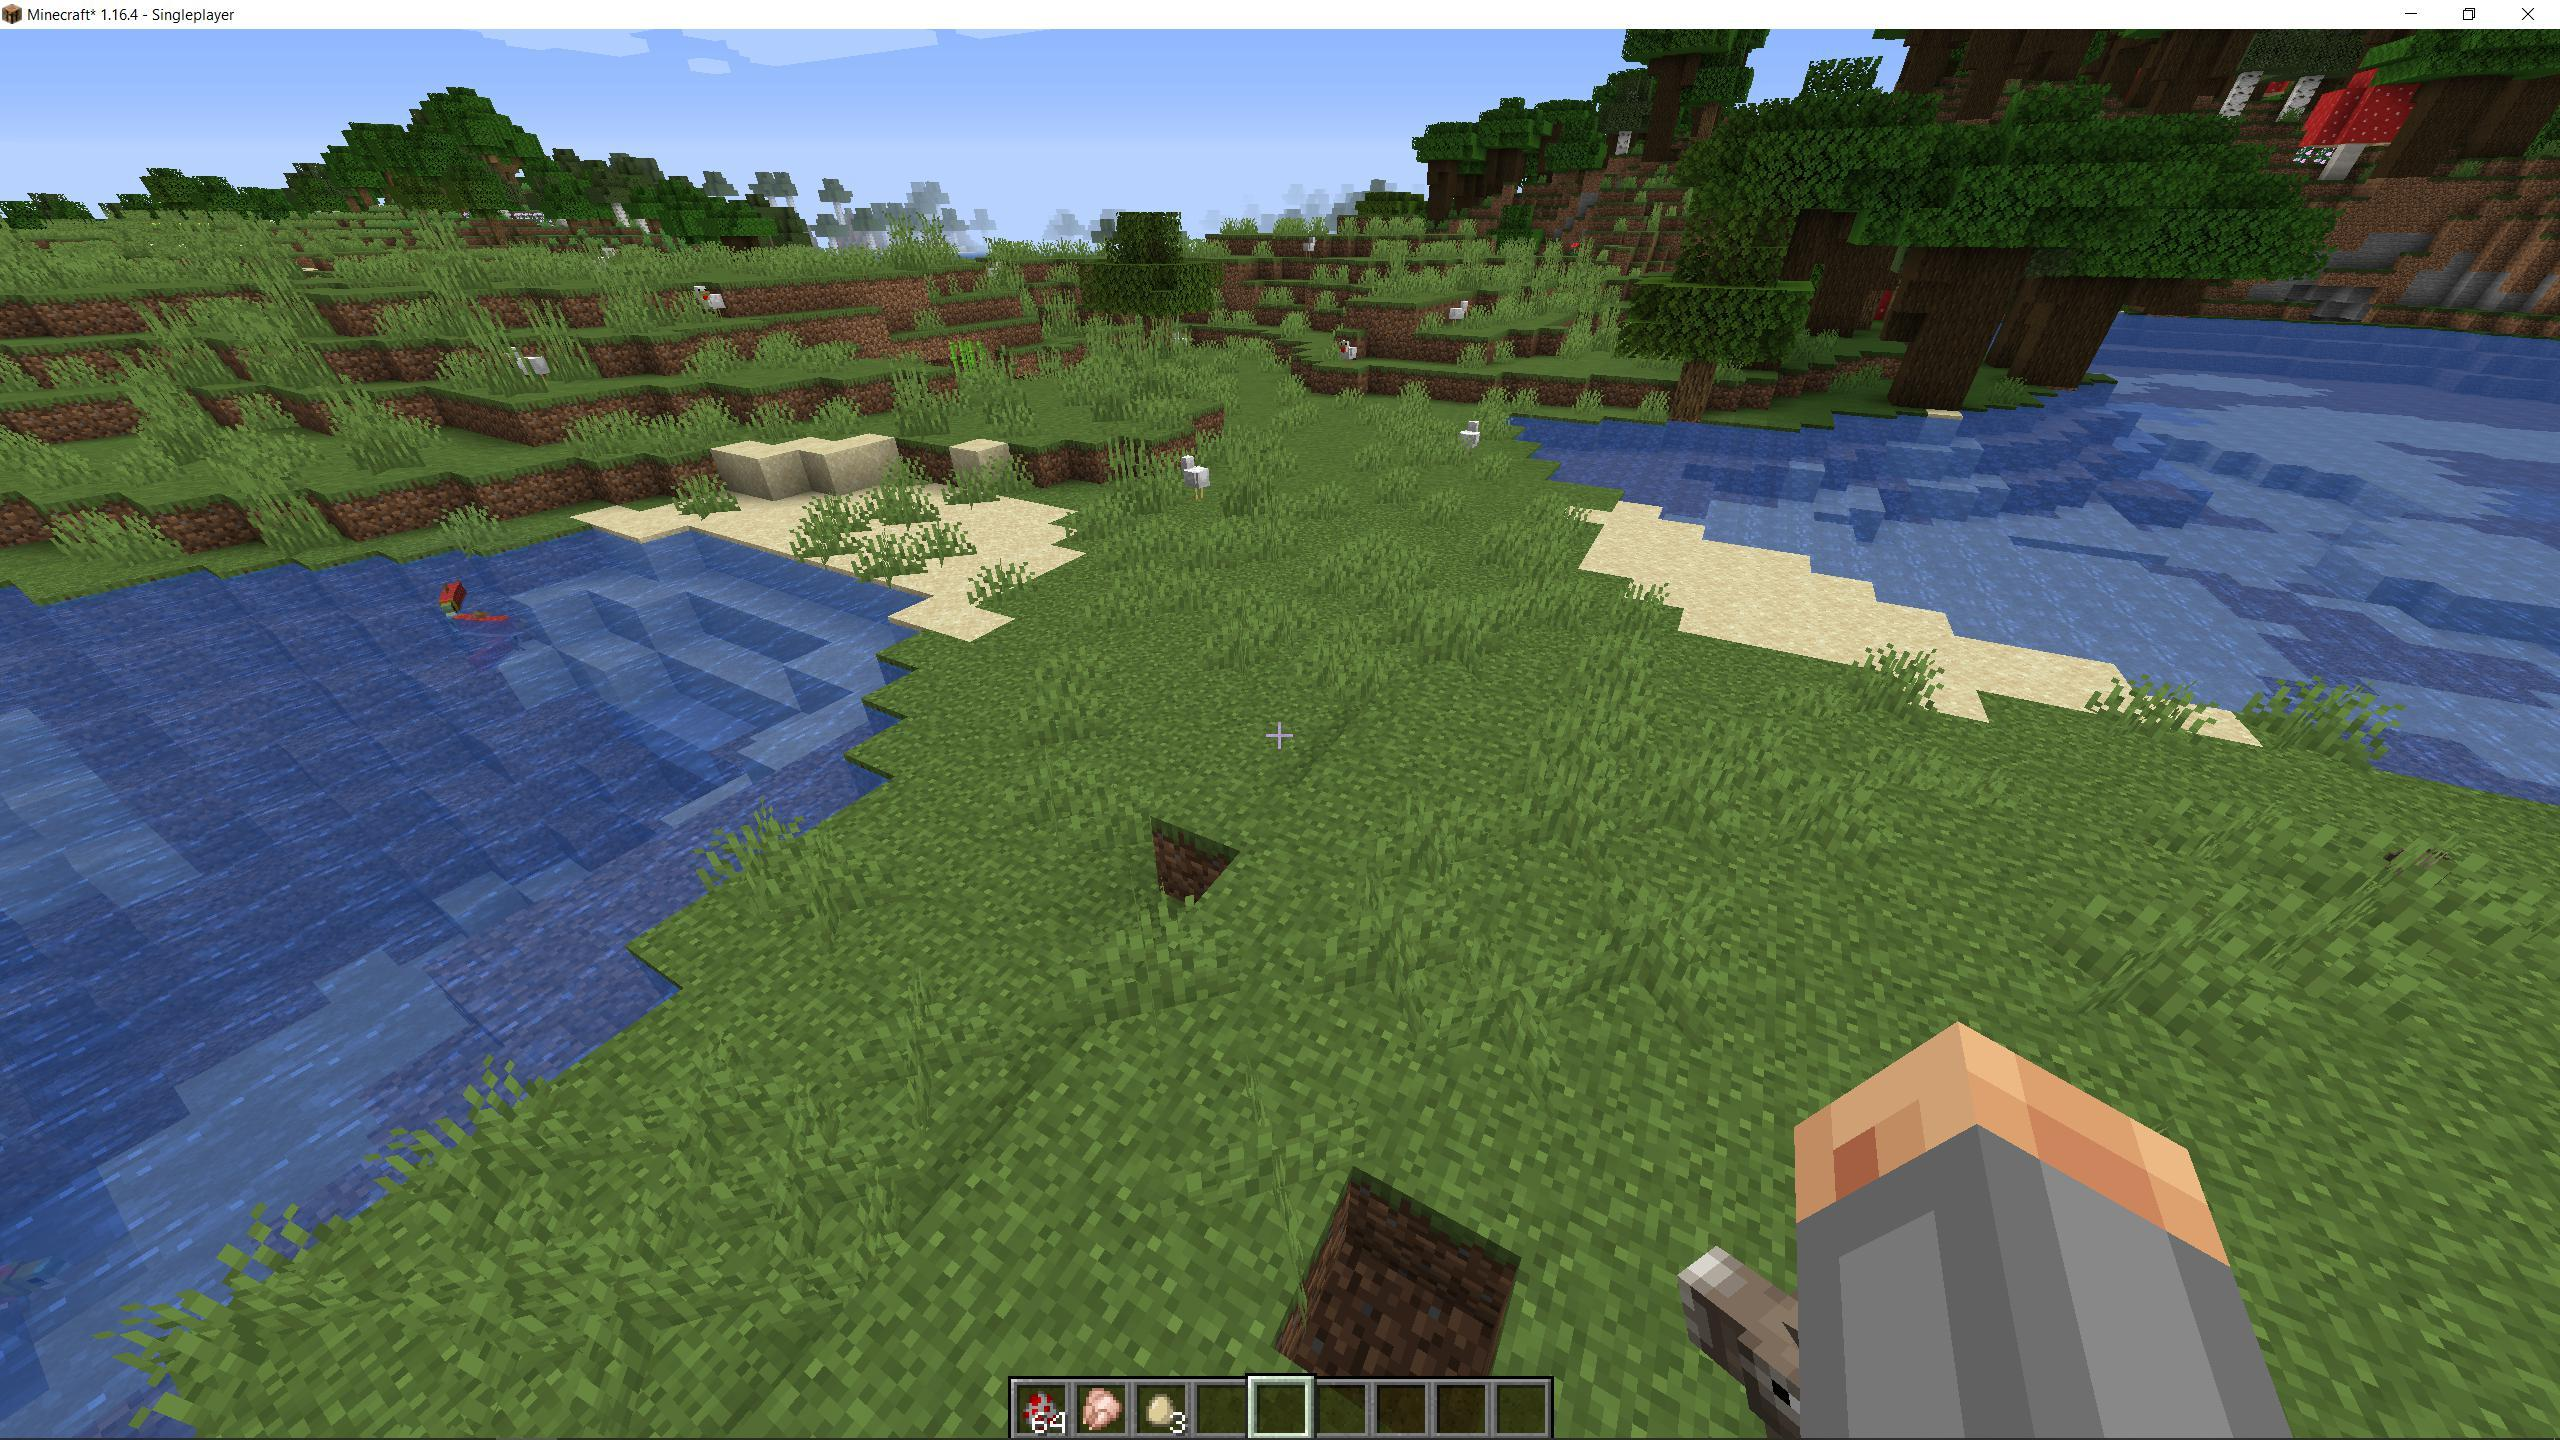chicken: (1171, 443, 1225, 505)
